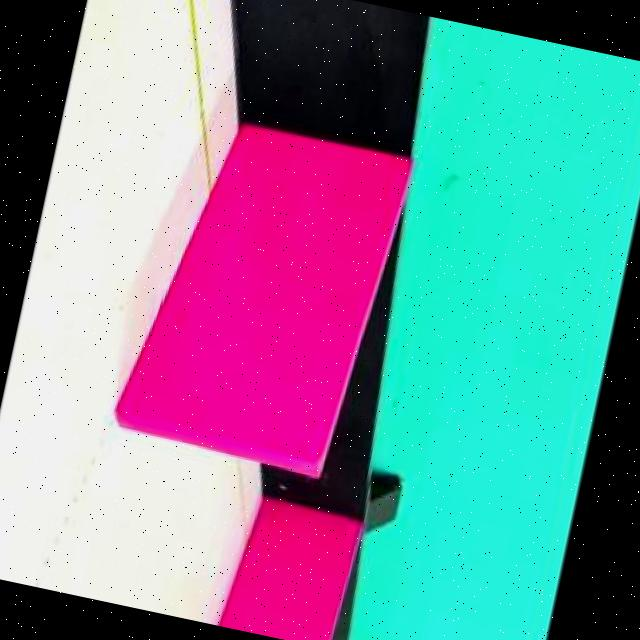xparking: (119, 125, 374, 465), (221, 508, 347, 640)
